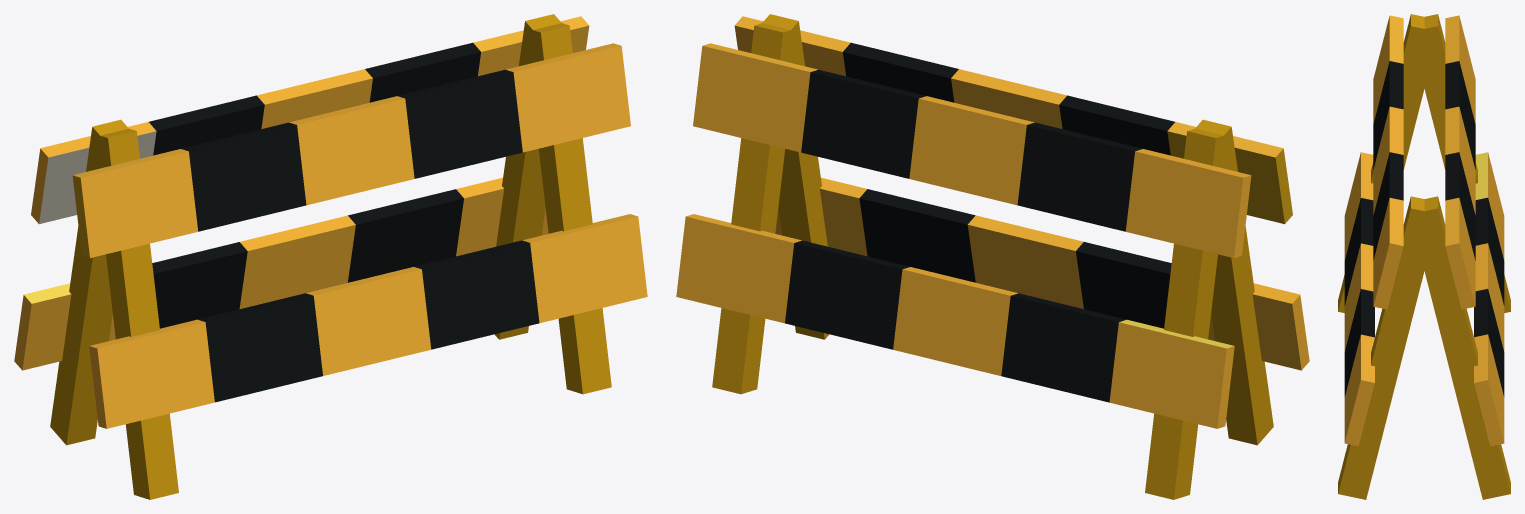
File: BuldWork.fbx
3 renders of one model, left to right at view 1: azimuth 30°, elevation 25°; view 2: azimuth 150°, elevation 25°; view 3: azimuth 270°, elevation 25°, orthographic. The views are drawn at different scales.
Visible parts, largest first — view 1: ??; view 2: ??; view 3: ??.
Boxes of the visible parts, box(x1,y1,x2,y2) form: ??: box(14, 14, 647, 499); ??: box(676, 14, 1309, 499); ??: box(1338, 14, 1510, 499).
Size of the model in its own units: 1.5 by 0.8949 by 0.4804.
Materials: 1 (1 with a texture image).
